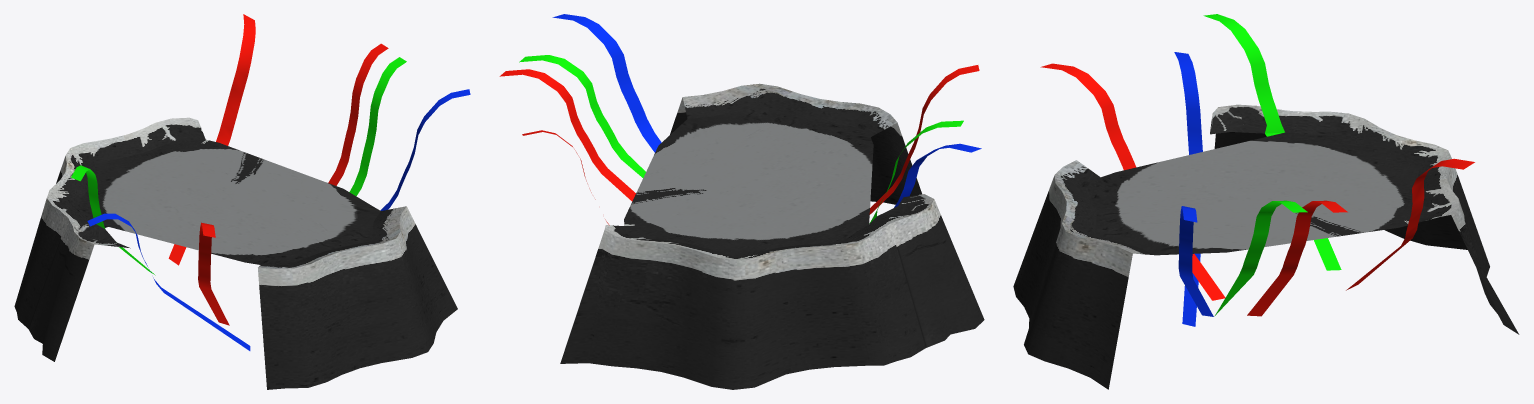
Rendered from F_FiringKnob_Broken_01.fbx.
3 views of the same model, side by side, from view 1: azimuth 30°, elevation 25°; view 2: azimuth 150°, elevation 25°; view 3: azimuth 270°, elevation 25° (orthographic). The views are drawn at different scales.
Parts seen in each view (by area): view 1: F_FiringKnob_Broken_01; view 2: F_FiringKnob_Broken_01; view 3: F_FiringKnob_Broken_01.
Boxes of the visible parts, box(x1,y1,x2,y2) form: F_FiringKnob_Broken_01: box(14, 14, 470, 389); F_FiringKnob_Broken_01: box(499, 14, 984, 389); F_FiringKnob_Broken_01: box(1013, 14, 1519, 389).
Size of the model in its own units: 64.58 by 31.43 by 62.83.
Materials: 2 (2 with a texture image).
